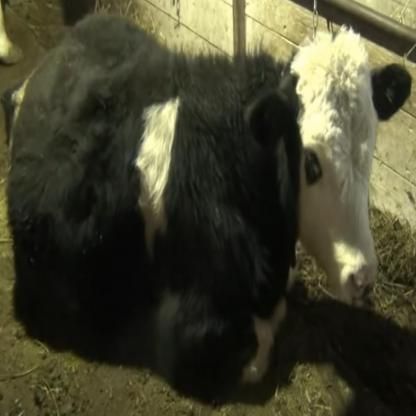cow: (8, 11, 412, 383)
